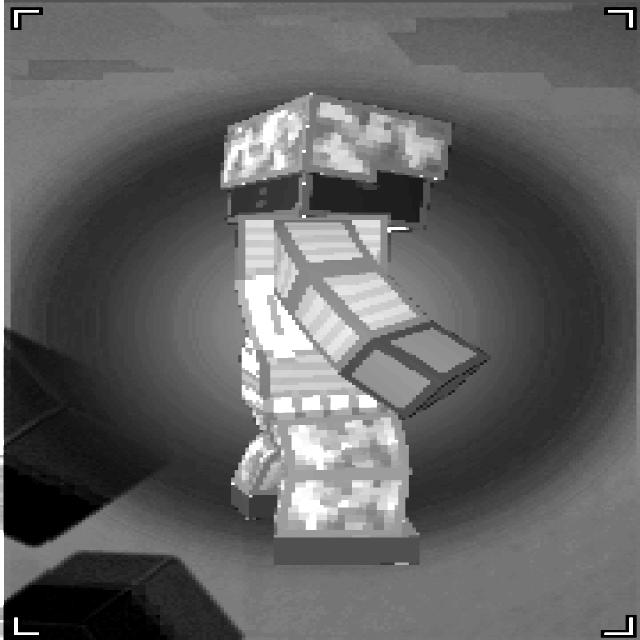Head: (216, 90, 456, 233)
Player: (217, 87, 491, 565)
